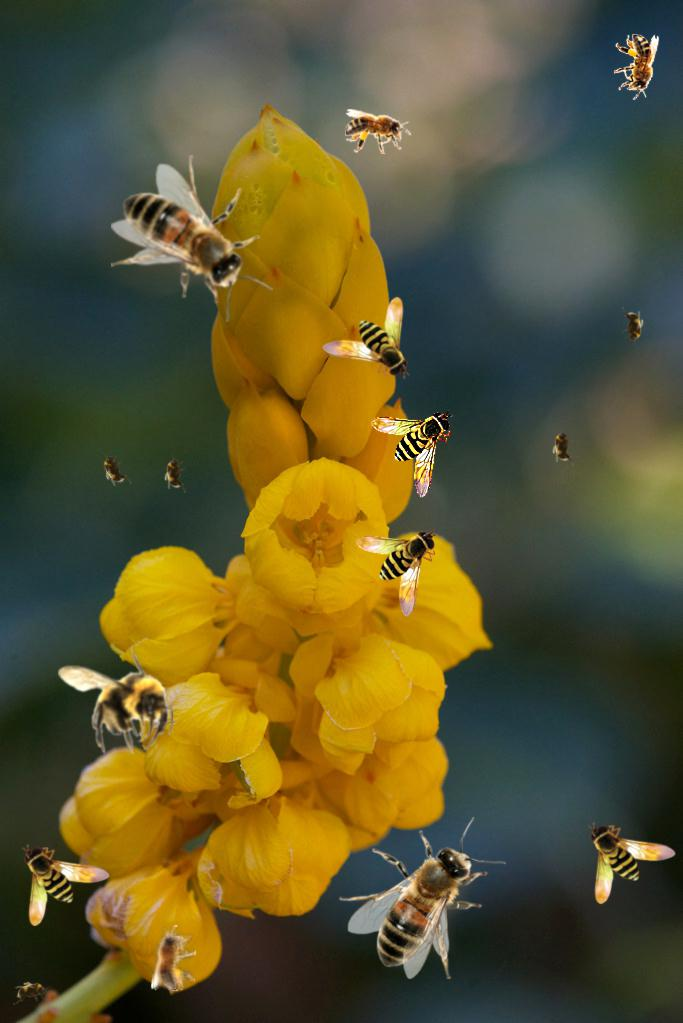Bee: (339, 817, 506, 979), (111, 155, 273, 322), (58, 647, 173, 754), (588, 822, 676, 904), (322, 297, 410, 379), (371, 410, 453, 498), (356, 529, 438, 617), (22, 844, 110, 926), (614, 34, 659, 100), (151, 925, 196, 991), (345, 109, 411, 154), (95, 446, 133, 492), (10, 978, 54, 1006), (622, 307, 644, 347), (552, 426, 574, 466), (164, 453, 186, 493)
